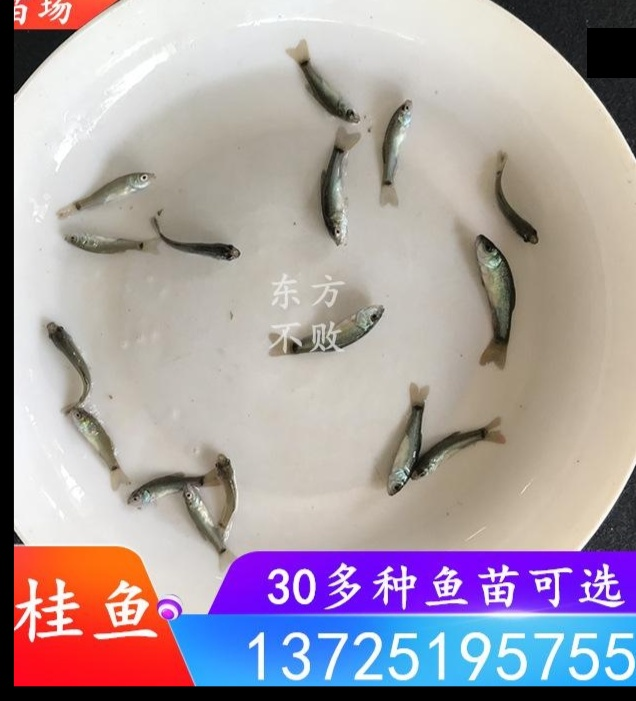fry: (281, 36, 371, 128), (468, 229, 524, 360), (369, 378, 422, 509), (293, 291, 389, 361), (53, 397, 122, 494), (369, 91, 429, 202), (306, 141, 360, 262), (415, 426, 512, 493), (29, 310, 99, 397), (490, 160, 553, 248), (45, 166, 168, 210), (65, 224, 167, 271), (173, 479, 225, 561), (208, 447, 259, 527), (124, 466, 217, 505), (166, 228, 241, 274)
